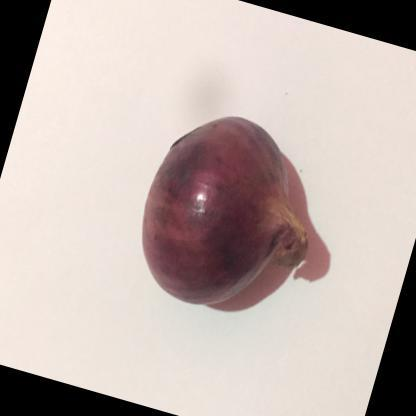onion: (100, 76, 338, 356)
